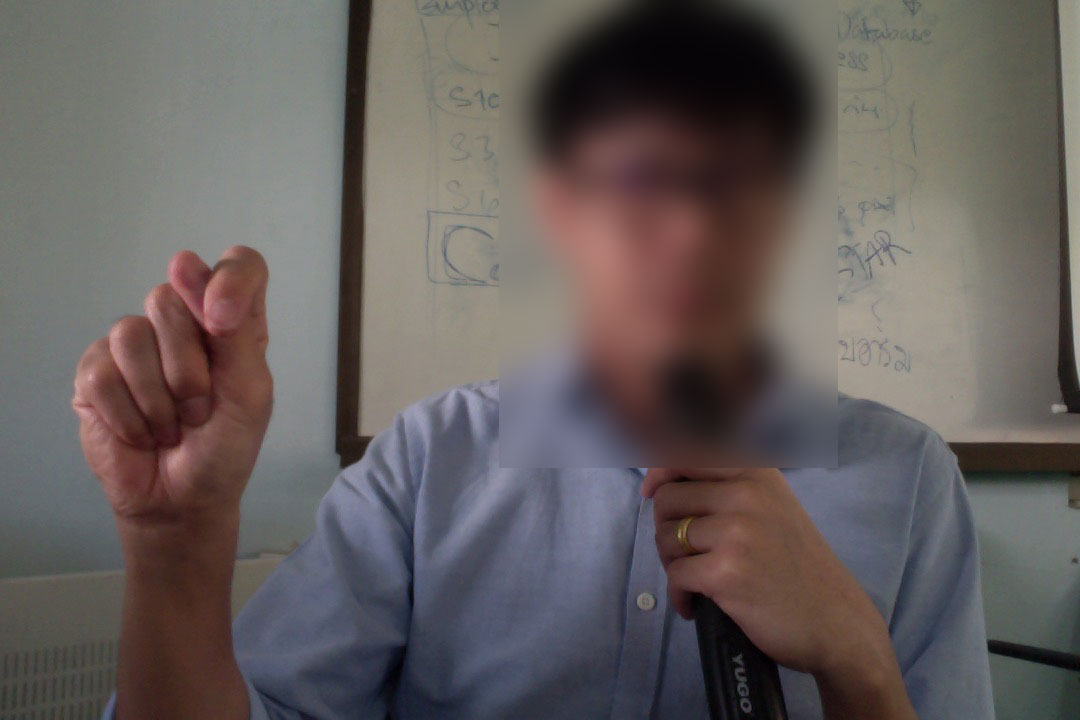tor: (63, 242, 279, 563)
